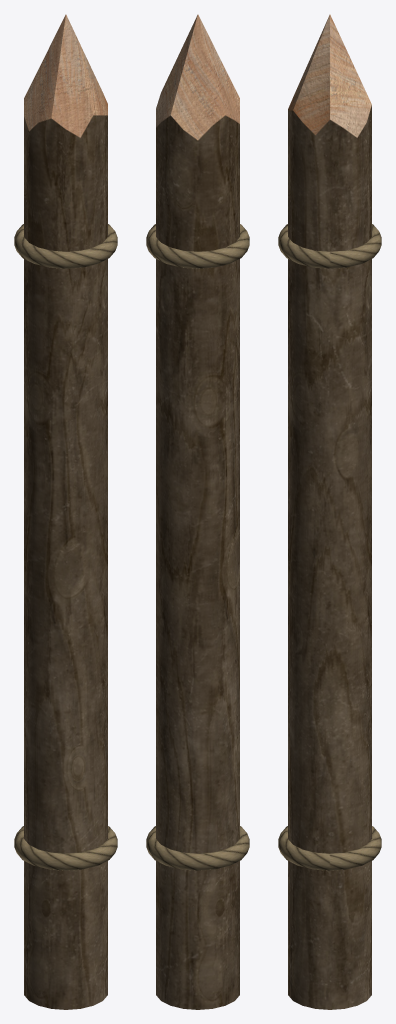
File: log.glb
The picture shows the model from 3 angles, left to right: view 1: azimuth 90°, elevation 25°; view 2: azimuth 150°, elevation 25°; view 3: azimuth 270°, elevation 25°; orthographic projection.
Parts seen in each view (by area): view 1: Cylinder001; view 2: Cylinder001; view 3: Cylinder001.
Part boxes in pixels (x1=…): Cylinder001: x1=14, y1=14, x2=117, y2=1009; Cylinder001: x1=146, y1=14, x2=249, y2=1009; Cylinder001: x1=278, y1=14, x2=381, y2=1009.
Size of the model in its own units: 2.38 by 24.49 by 2.34.
1 material, 1 textured.
